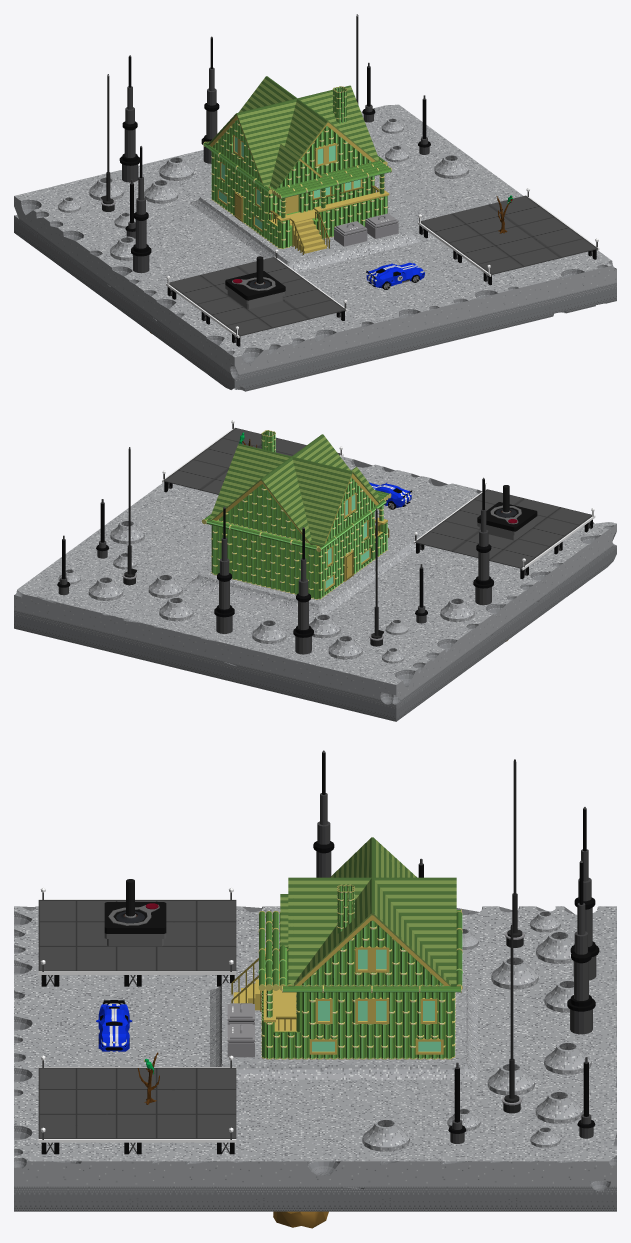
The picture shows the model from 3 angles, top to bottom: view 1: azimuth 30°, elevation 25°; view 2: azimuth 150°, elevation 25°; view 3: azimuth 270°, elevation 25°; orthographic projection. The views are drawn at different scales.
Parts seen in each view (by area): view 1: Cube.027, Cube.1327, Cube.026, Cube.025, Cube.028, OBJRANDOM_JOYSTICK, Cylinder.020, Cylinder.021, VEHICLES_RACING_CAR, Cylinder.017, Cube.029, Cube.030 (+5 smaller); view 2: Cube.027, Cube.1327, Cube.025, Cube.028, Cube.026, OBJRANDOM_JOYSTICK, Cylinder.017, Cylinder.021, Cylinder.020, Cylinder.028, Cylinder.030, Cylinder.029 (+8 smaller); view 3: Cube.027, Cube.1327, Cube.026, Cube.025, Cube.028, OBJRANDOM_JOYSTICK, Cylinder.017, VEHICLES_RACING_CAR, Cylinder.020, Cylinder.021, Cylinder.031, Cylinder.033 (+11 smaller).
Boxes of the visible parts, left/top/right/bottom form: Cube.027: left=14, top=104, right=616, bottom=391; Cube.1327: left=203, top=76, right=391, bottom=254; Cube.026: left=417, top=188, right=599, bottom=285; Cube.025: left=166, top=249, right=347, bottom=346; Cube.028: left=190, top=194, right=421, bottom=271; OBJRANDOM_JOYSTICK: left=225, top=256, right=285, bottom=309; Cylinder.020: left=119, top=55, right=139, bottom=182; Cylinder.021: left=131, top=146, right=151, bottom=273; VEHICLES_RACING_CAR: left=366, top=262, right=424, bottom=289; Cylinder.017: left=201, top=36, right=219, bottom=163; Cube.029: left=334, top=221, right=367, bottom=246; Cube.030: left=365, top=213, right=398, bottom=238; Cube.027: left=14, top=456, right=616, bottom=721; Cube.1327: left=202, top=430, right=391, bottom=599; Cube.025: left=413, top=481, right=595, bottom=579; Cube.028: left=188, top=534, right=415, bottom=615; Cube.026: left=162, top=420, right=343, bottom=494; OBJRANDOM_JOYSTICK: left=477, top=485, right=537, bottom=540; Cylinder.017: left=214, top=506, right=234, bottom=633; Cylinder.021: left=473, top=477, right=493, bottom=605; Cylinder.020: left=293, top=527, right=313, bottom=654; Cylinder.028: left=328, top=635, right=362, bottom=659; Cylinder.030: left=148, top=574, right=182, bottom=598; Cylinder.029: left=159, top=597, right=193, bottom=621; Cube.027: left=14, top=906, right=616, bottom=1211; Cube.1327: left=231, top=837, right=462, bottom=1059; Cube.026: left=38, top=1055, right=236, bottom=1154; Cube.025: left=38, top=887, right=236, bottom=986; Cube.028: left=210, top=983, right=477, bottom=1079; OBJRANDOM_JOYSTICK: left=104, top=879, right=166, bottom=946; Cylinder.017: left=567, top=860, right=595, bottom=1034; VEHICLES_RACING_CAR: left=96, top=1000, right=132, bottom=1051; Cylinder.020: left=570, top=807, right=599, bottom=980; Cylinder.021: left=313, top=750, right=334, bottom=877; Cylinder.031: left=535, top=1091, right=583, bottom=1123; Cylinder.033: left=362, top=1119, right=409, bottom=1151.
Bounding box in the file's own units: 4000 × 1912 × 4000.
38 materials, 5 textured.
